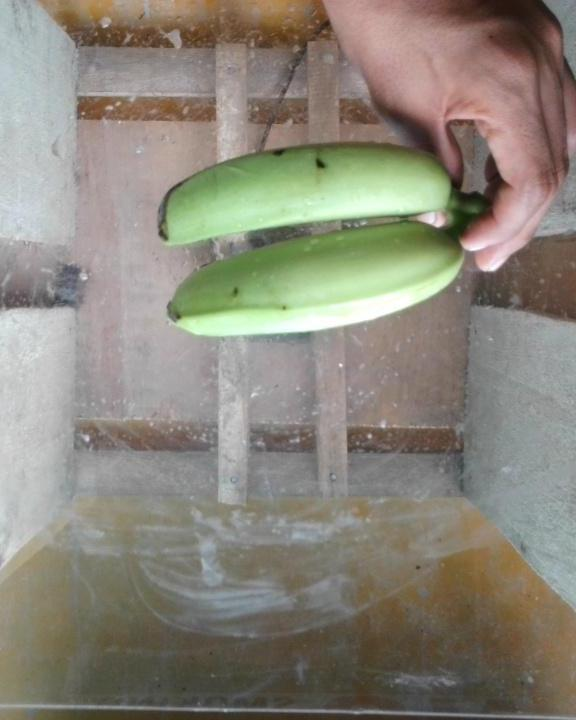CLASS B: (140, 126, 497, 346)
Class A: (150, 180, 193, 235), (306, 143, 345, 177), (265, 140, 294, 169), (230, 279, 246, 309)
